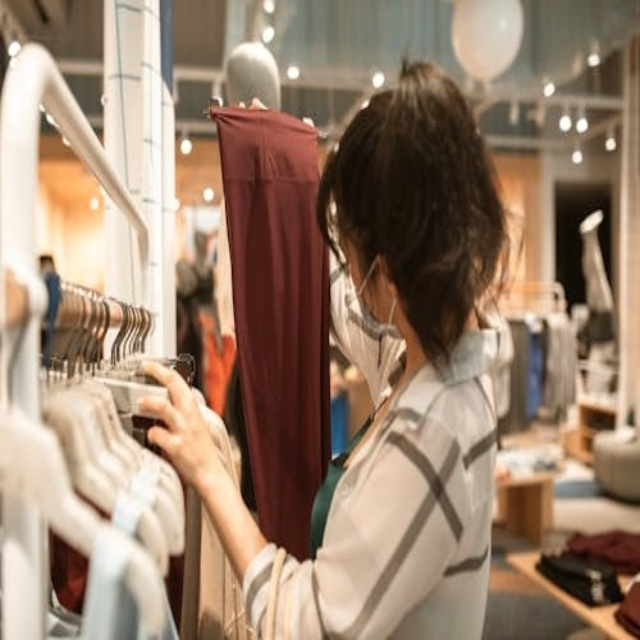Sin_guantes: (134, 360, 228, 489)
